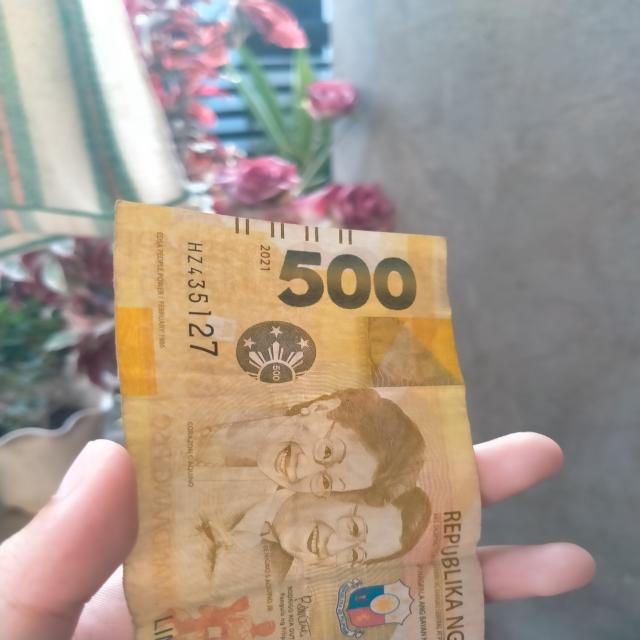concealed_value: (353, 310, 464, 391)
optically_variable_device: (225, 315, 320, 389)
serial_number: (174, 228, 218, 361)
value: (270, 246, 420, 314)
